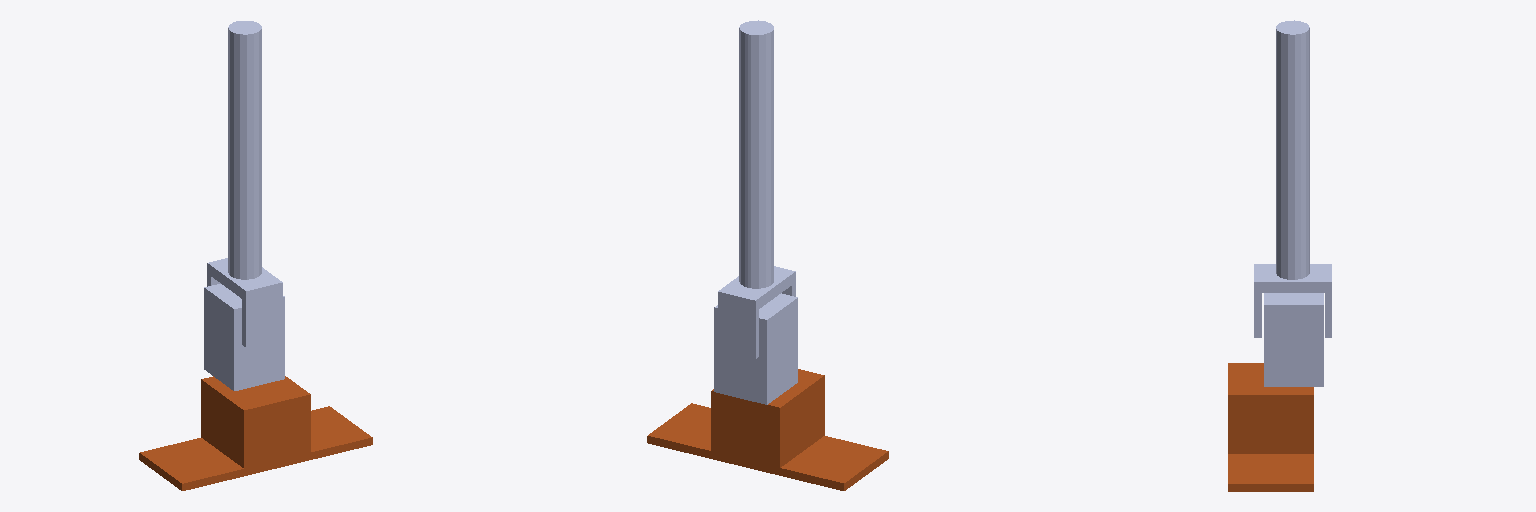
robot.urdf — fishing_assy2_collisional:
<?xml version="1.0" encoding="utf-8"?>
<!-- This URDF was automatically created by SolidWorks to URDF Exporter! Originally created by Stephen Brawner (brawner@gmail.com) 
     Commit Version: 1.6.0-4-g7f85cfe  Build Version: 1.6.7995.38578
     For more information, please see http://wiki.ros.org/sw_urdf_exporter -->
<robot
  name="fishing_assy2_collisional">
  <link
    name="base_link">
    <inertial>
      <origin
        xyz="-6.4454E-17 -0.0133 -0.0071149"
        rpy="0 0 0" />
      <mass
        value="0.12057" />
      <inertia
        ixx="4.7401E-05"
        ixy="-1.645E-21"
        ixz="-9.2245E-20"
        iyy="8.3189E-05"
        iyz="-4.1116E-21"
        izz="8.7238E-05" />
    </inertial>
    <visual>
      <origin
        xyz="0 0 0"
        rpy="0 0 0" />
      <geometry>
        <mesh
          filename="package://fishing_assy2_collisional/meshes/base_link.STL" />
      </geometry>
      <material
        name="">
        <color
          rgba="0.76078 0.4 0.18039 0.3" />
      </material>
    </visual>
    <collision>
      <origin
        xyz="0 0 0"
        rpy="0 0 0" />
      <geometry>
        <mesh
          filename="package://fishing_assy2_collisional/meshes/base_link.STL" />
      </geometry>
    </collision>
  </link>
  <link
    name="Link_1">
    <inertial>
      <origin
        xyz="-2.2511E-16 0 0.02395"
        rpy="0 0 0" />
      <mass
        value="0.066217" />
      <inertia
        ixx="2.2808E-05"
        ixy="-3.7834E-22"
        ixz="-3.2526E-21"
        iyy="2.2536E-05"
        iyz="-6.0422E-22"
        izz="1.3637E-05" />
    </inertial>
    <visual>
      <origin
        xyz="0 0 0"
        rpy="0 0 0" />
      <geometry>
        <mesh
          filename="package://fishing_assy2_collisional/meshes/Link_1.STL" />
      </geometry>
      <material
        name="">
        <color
          rgba="0.79216 0.81961 0.93333 1" />
      </material>
    </visual>
    <collision>
      <origin
        xyz="0 0 0"
        rpy="0 0 0" />
      <geometry>
        <mesh
          filename="package://fishing_assy2_collisional/meshes/Link_1.STL" />
      </geometry>
    </collision>
  </link>
  <joint
    name="Joint_1"
    type="revolute">
    <origin
      xyz="0 0 0.02335"
      rpy="0 0 0" />
    <parent
      link="base_link" />
    <child
      link="Link_1" />
    <axis
      xyz="0 0 1" />
    <limit
      lower="-3.1416"
      upper="3.1416"
      effort="2.5"
      velocity="5.76" />
  </joint>
  <link
    name="Link_2">
    <inertial>
      <origin
        xyz="-1.2926E-17 0.022633 0.084558"
        rpy="0 0 0" />
      <mass
        value="0.06469" />
      <inertia
        ixx="0.00020862"
        ixy="4.7745E-22"
        ixz="1.8301E-20"
        iyy="0.00020517"
        iyz="-1.1469E-06"
        izz="7.4616E-06" />
    </inertial>
    <visual>
      <origin
        xyz="0 0 0"
        rpy="0 0 0" />
      <geometry>
        <mesh
          filename="package://fishing_assy2_collisional/meshes/Link_2.STL" />
      </geometry>
      <material
        name="">
        <color
          rgba="0.79216 0.81961 0.93333 1" />
      </material>
    </visual>
    <collision>
      <origin
        xyz="0 0 0"
        rpy="0 0 0" />
      <geometry>
        <mesh
          filename="package://fishing_assy2_collisional/meshes/Link_2.STL" />
      </geometry>
    </collision>
  </link>
  <joint
    name="Joint_2"
    type="revolute">
    <origin
      xyz="0 -0.02335 0.03875"
      rpy="0 0 0" />
    <parent
      link="Link_1" />
    <child
      link="Link_2" />
    <axis
      xyz="0 1 0" />
    <limit
      lower="-3.1416"
      upper="3.1416"
      effort="2.5"
      velocity="5.76" />
  </joint>
</robot>

--- Facts derived from the render (not from the file) ---
3 views of the same robot in one strip: view 1: azimuth 30°, elevation 25°; view 2: azimuth 150°, elevation 25°; view 3: azimuth 270°, elevation 25° (orthographic).
Robot: fishing_assy2_collisional — 3 links, 2 joints (2 revolute); root link base_link; default pose: all joints at 0.
Links seen in each view (by area): view 1: base_link, Link_2, Link_1; view 2: base_link, Link_2, Link_1; view 3: Link_2, base_link, Link_1.
Boxes of the visible links, box(x1,y1,x2,y2) form: base_link: box(139, 376, 372, 490); Link_2: box(207, 21, 282, 347); Link_1: box(204, 284, 284, 390); base_link: box(647, 369, 888, 490); Link_2: box(718, 20, 795, 358); Link_1: box(714, 293, 797, 404); Link_2: box(1254, 20, 1331, 337); base_link: box(1228, 363, 1313, 491); Link_1: box(1264, 293, 1323, 386).
Size in the robot's own frame: 0.13 by 0.0611 by 0.2723 metres.
Meshes: 3 distinct files referenced, 3 mesh visuals loaded (3 binary STL).
